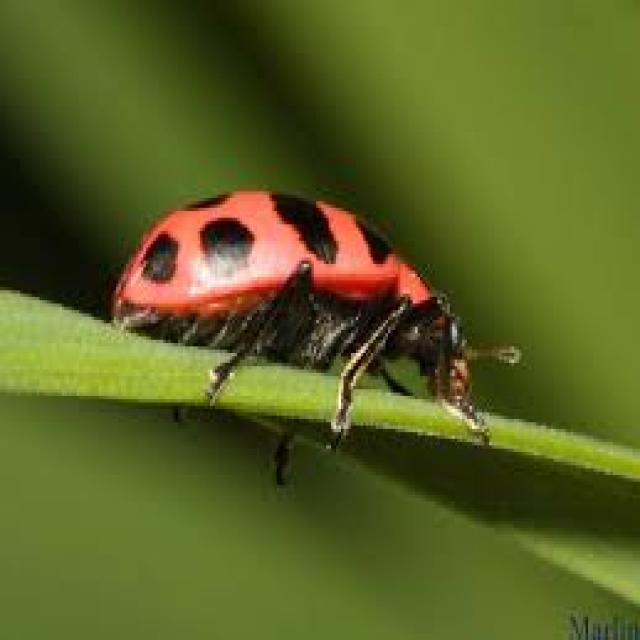bug: (111, 175, 529, 510)
